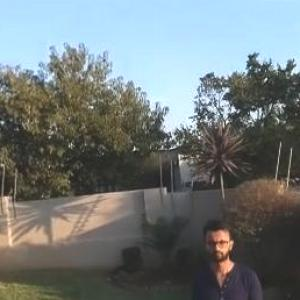follow: (186, 215, 272, 299)
